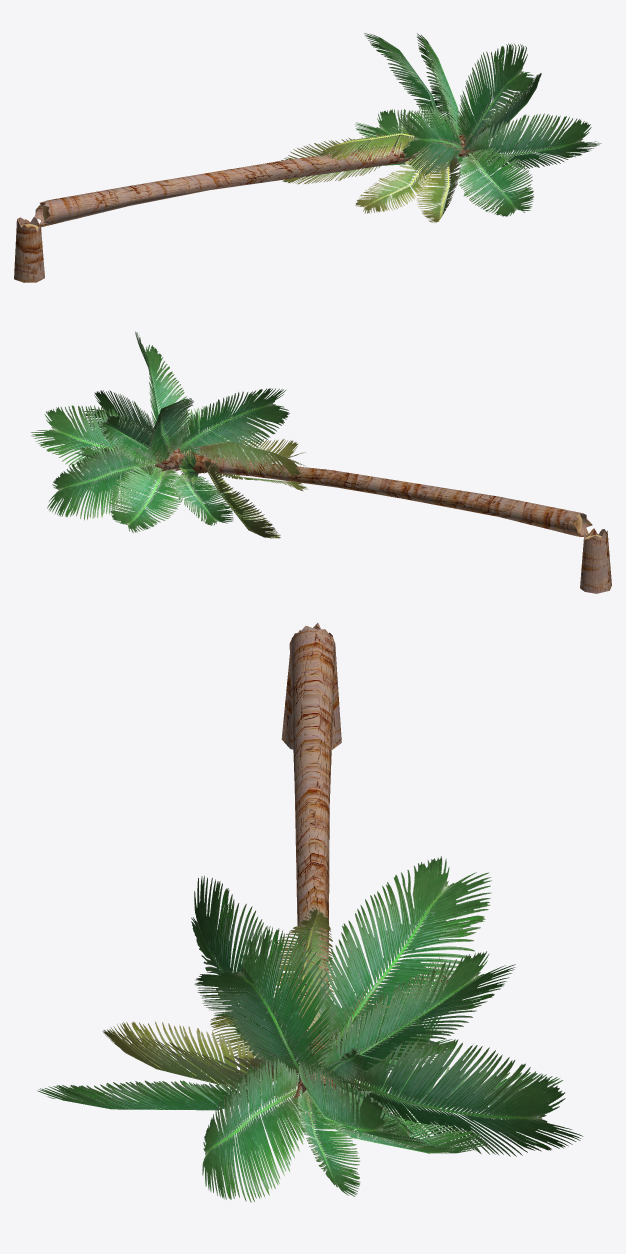
The model's file is jungle_fallentree_2_dream.glb.
3 views of the same model, one above another, from view 1: azimuth 30°, elevation 25°; view 2: azimuth 150°, elevation 25°; view 3: azimuth 270°, elevation 25° (orthographic). The views are drawn at different scales.
Visible parts, largest first — view 1: jungle_fallentree_2; view 2: jungle_fallentree_2; view 3: jungle_fallentree_2.
Part boxes in pixels (x1,y1,x2,y2): jungle_fallentree_2: [14, 33, 601, 282]; jungle_fallentree_2: [30, 331, 611, 593]; jungle_fallentree_2: [37, 623, 583, 1202].
Bounding box in the file's own units: 20.15 × 5.63 × 9.91.
Materials: 5 (5 with a texture image).
